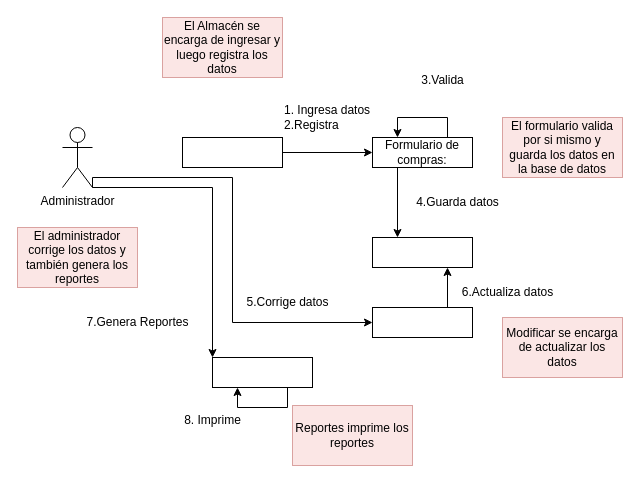
Image size: 640x483. Some labels were removed from this diagram. The shapes that lost their labels are listed below. From the top down, each one's centre as x and y in pixels, then its label:
[232,152]: Almacén:
[422,252]: Registro base de datos:
[422,322]: Modificar
[262,372]: Reportes
